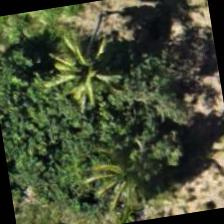Kelapa_Sawit: (35, 23, 138, 126), (56, 128, 160, 223)
